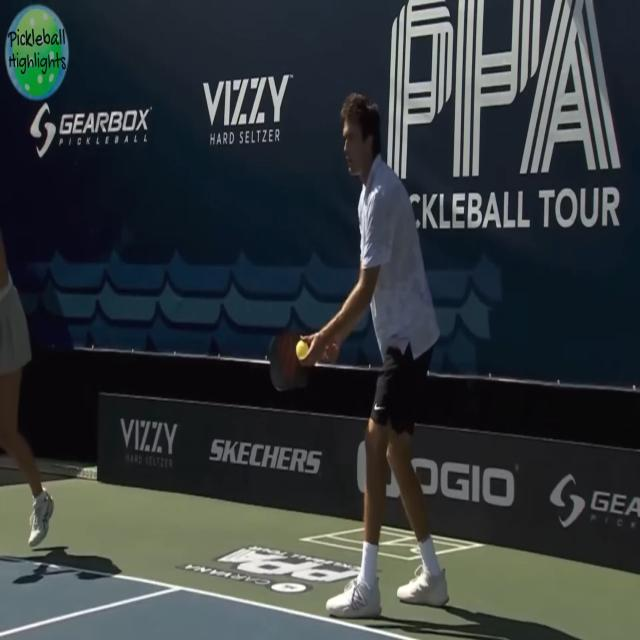ball: (293, 332, 311, 366)
